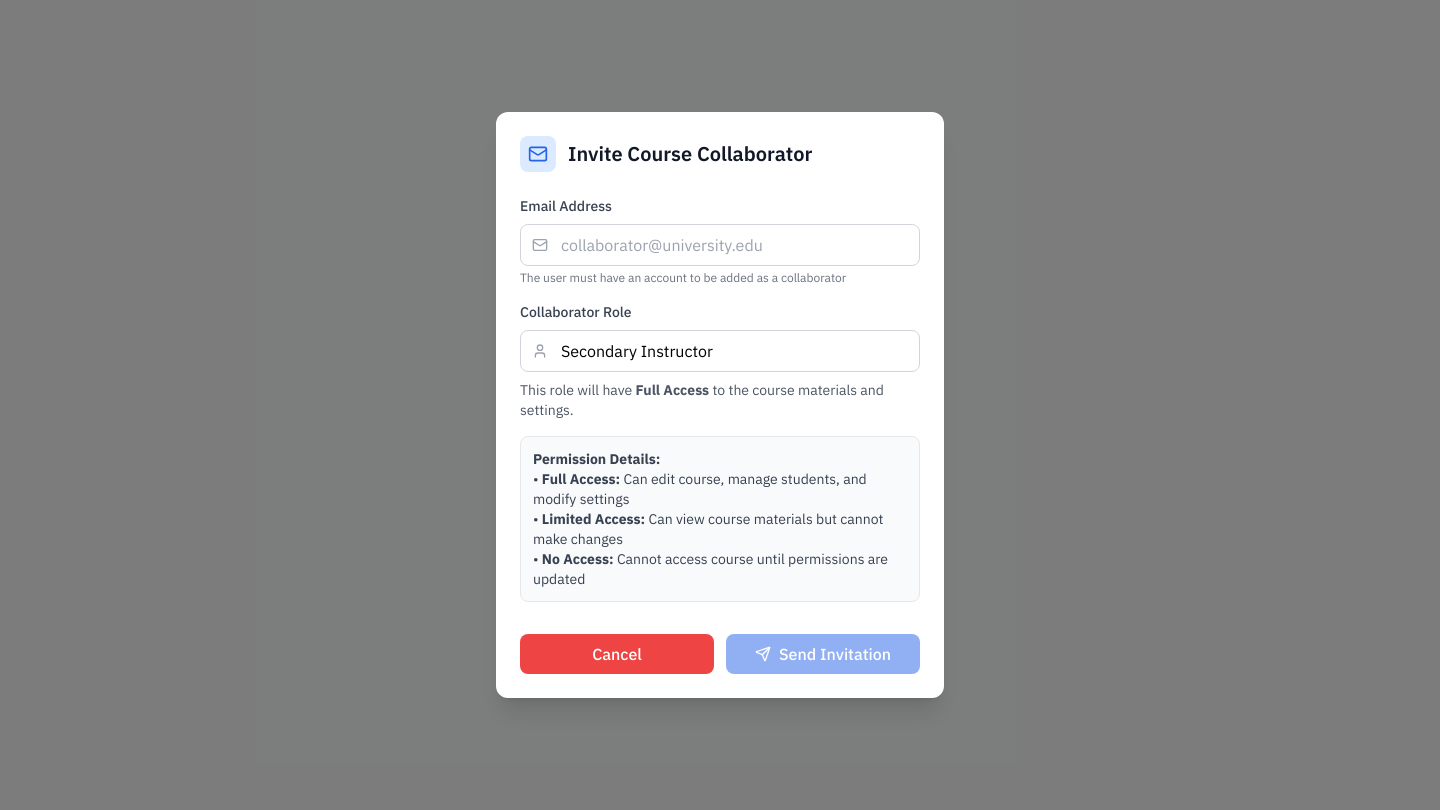
Scenario: InviteInstructorModal › updates permission display when role changes
# Change to TA role
Step 1. Select "Teaching Assistant" in the dropdown labelled "Collaborator Role" → (720, 351), box x1=520 y1=330 x2=920 y2=372
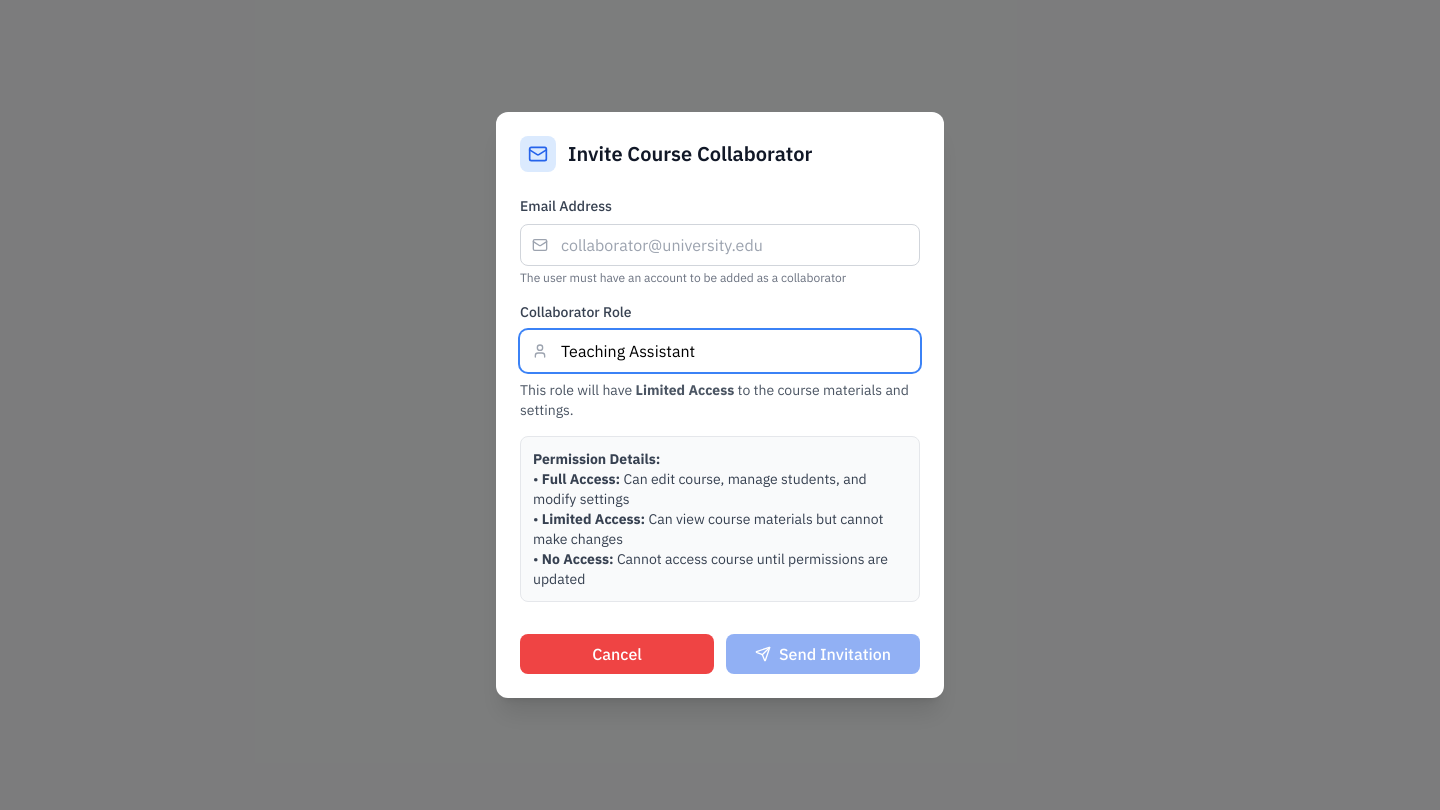
Expected: the text "Limited Access" is shown, x1=636 y1=381 x2=734 y2=399
